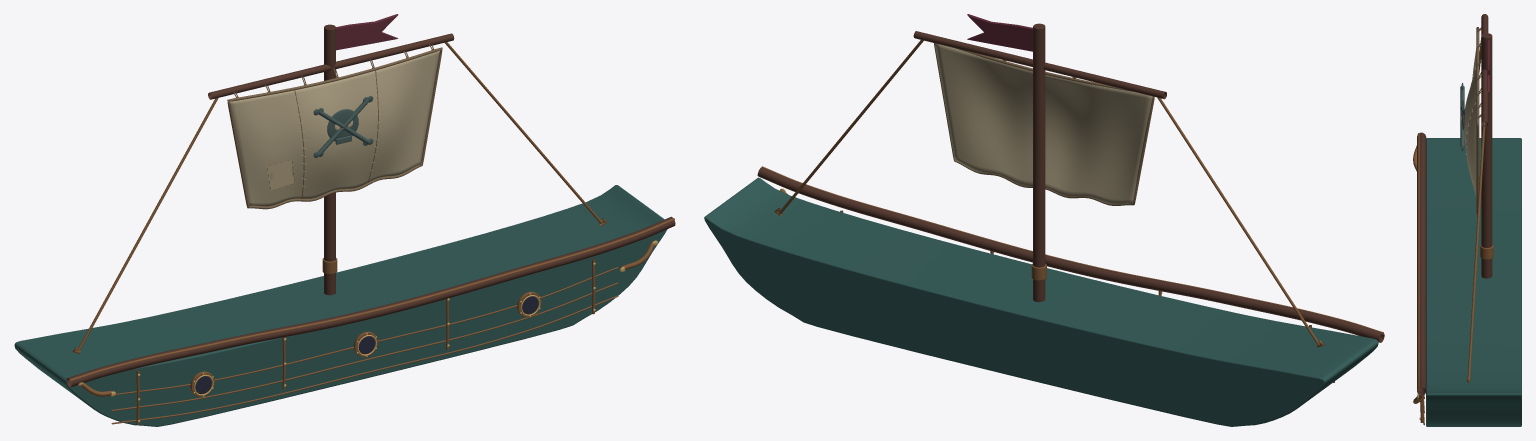
The model's file is pirate_ship.glb.
The picture shows the model from 3 angles, left to right: view 1: azimuth 30°, elevation 25°; view 2: azimuth 150°, elevation 25°; view 3: azimuth 270°, elevation 25°; orthographic projection. The views are drawn at different scales.
Parts seen in each view (by area): view 1: pirate_ship_Body_ship_teal_enamel, pirate_ship_Sail_sail_canvas, pirate_ship_Body_carved_mahogany, pirate_ship_Body_antique_gold, pirate_ship_Sail_sail_ochre_binding, pirate_ship_Sail_sail_faded_ink, pirate_ship_Pennant_wine_velvet, pirate_ship_Body_charcoal_enamel, pirate_ship_Sail_sail_repair_canvas; view 2: pirate_ship_Body_ship_teal_enamel, pirate_ship_Sail_sail_canvas, pirate_ship_Body_carved_mahogany, pirate_ship_Body_antique_gold, pirate_ship_Pennant_wine_velvet, pirate_ship_Sail_sail_ochre_binding; view 3: pirate_ship_Body_ship_teal_enamel, pirate_ship_Body_carved_mahogany, pirate_ship_Body_antique_gold, pirate_ship_Sail_sail_canvas, pirate_ship_Sail_sail_ochre_binding, pirate_ship_Sail_sail_faded_ink, pirate_ship_Pennant_wine_velvet.
Part boxes in pixels (bbox=[...]): pirate_ship_Body_ship_teal_enamel: bbox=[14, 185, 667, 426]; pirate_ship_Sail_sail_canvas: bbox=[230, 50, 440, 206]; pirate_ship_Body_carved_mahogany: bbox=[66, 24, 675, 387]; pirate_ship_Body_antique_gold: bbox=[69, 42, 674, 425]; pirate_ship_Sail_sail_ochre_binding: bbox=[227, 47, 442, 209]; pirate_ship_Sail_sail_faded_ink: bbox=[313, 96, 373, 157]; pirate_ship_Pennant_wine_velvet: bbox=[336, 14, 398, 50]; pirate_ship_Body_charcoal_enamel: bbox=[195, 296, 538, 393]; pirate_ship_Sail_sail_repair_canvas: bbox=[267, 120, 352, 190]; pirate_ship_Body_ship_teal_enamel: bbox=[704, 177, 1378, 426]; pirate_ship_Sail_sail_canvas: bbox=[934, 43, 1152, 204]; pirate_ship_Body_carved_mahogany: bbox=[757, 23, 1384, 342]; pirate_ship_Body_antique_gold: bbox=[762, 40, 1383, 382]; pirate_ship_Pennant_wine_velvet: bbox=[967, 14, 1032, 51]; pirate_ship_Sail_sail_ochre_binding: bbox=[934, 43, 1154, 205]; pirate_ship_Body_ship_teal_enamel: bbox=[1426, 138, 1521, 426]; pirate_ship_Body_carved_mahogany: bbox=[1417, 14, 1492, 395]; pirate_ship_Body_antique_gold: bbox=[1413, 38, 1493, 425]; pirate_ship_Sail_sail_canvas: bbox=[1464, 48, 1476, 197]; pirate_ship_Sail_sail_ochre_binding: bbox=[1466, 27, 1479, 215]; pirate_ship_Sail_sail_faded_ink: bbox=[1460, 83, 1464, 150]; pirate_ship_Pennant_wine_velvet: bbox=[1487, 40, 1489, 91].
Size of the model in its own units: 12.22 by 6.33 by 2.1.
